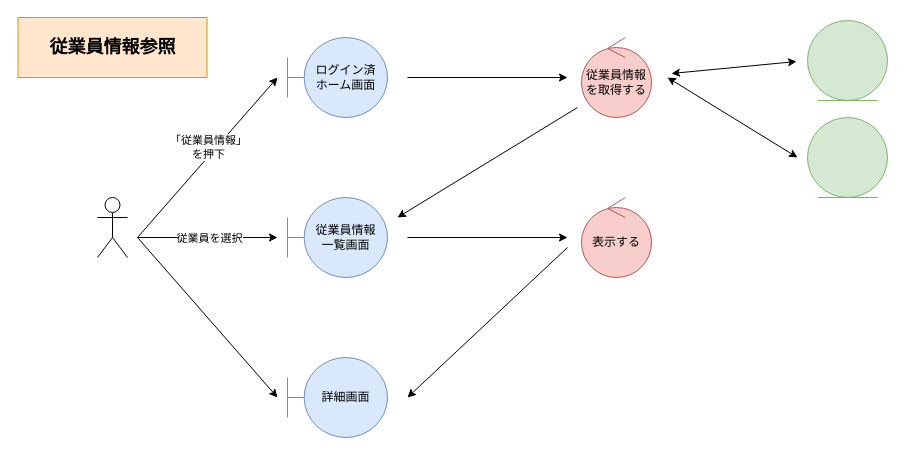
Some shapes in this 905 by 455 pixel diagram are drawn without their labels. The shapes that lost their labels are listed below. From the top down, each one's centre as x and y in pixels, then its label:
At (x=847, y=60): "店舗情報 モデル".
At (x=847, y=157): "従業員情報 モデル".
At (x=112, y=227): "正規社員 非正規社員".
